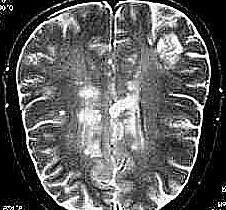Normal_Brain: (2, 3, 226, 210)
